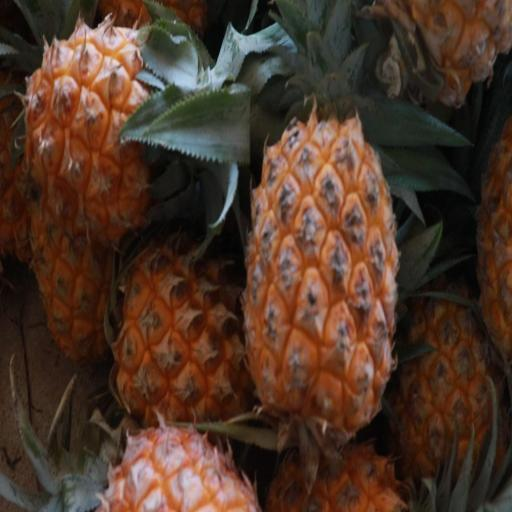Pineapple - v8 v1: (239, 98, 402, 462), (18, 4, 227, 252), (107, 214, 267, 438), (378, 256, 509, 504)
